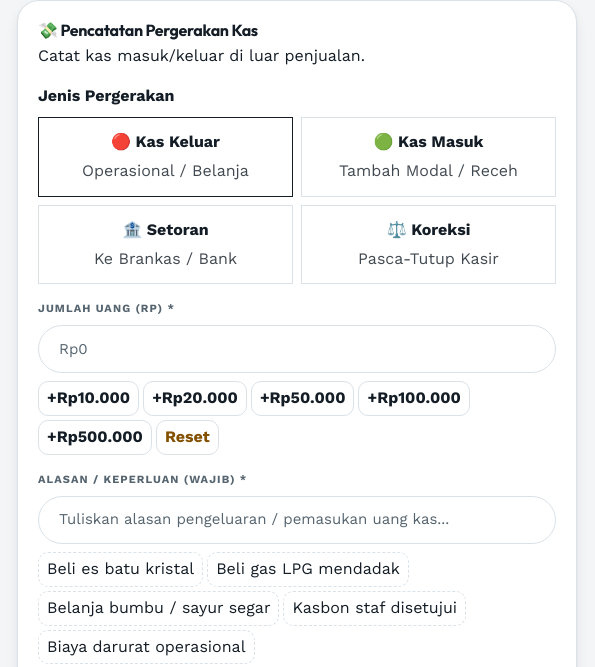
KasKeluarMasuk (T7-03 — Kas Masuk, Kas Keluar, Setoran, dan Koreksi) › dapat beralih jenis pergerakan kas
Step 1. Click the button with test id "pilih-jenis-masuk" → x=428, y=157, box x1=301 y1=117 x2=556 y2=197
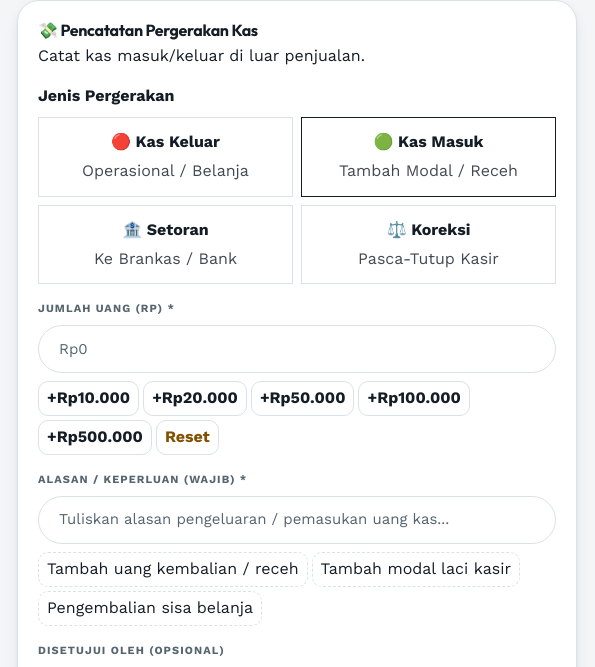
Now the button "Tambah uang kembalian / receh" is shown, box x1=38 y1=552 x2=308 y2=587
